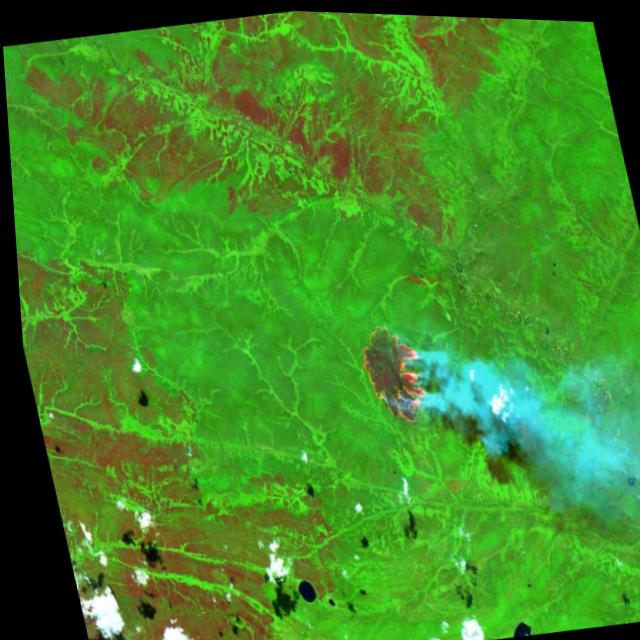fire: (344, 304, 435, 440)
